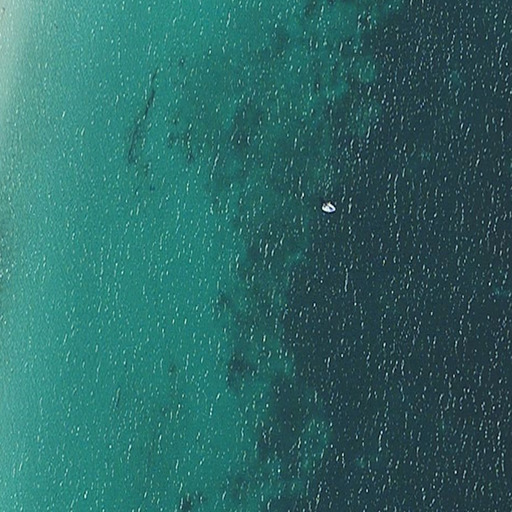ship: (319, 199, 338, 216)
